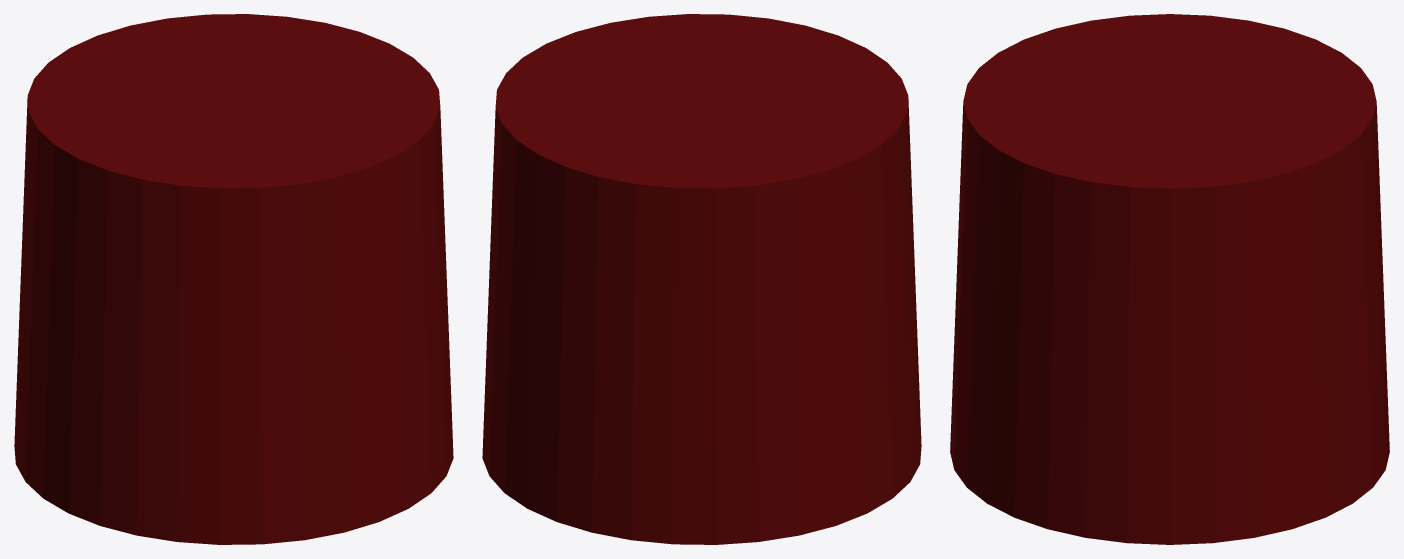
The model's file is red_cup.obj.
3 views of the same model, side by side, from view 1: azimuth 30°, elevation 25°; view 2: azimuth 150°, elevation 25°; view 3: azimuth 270°, elevation 25° (orthographic).
Parts seen in each view (by area): view 1: red_cup_Cylinder; view 2: red_cup_Cylinder; view 3: red_cup_Cylinder.
Part boxes in pixels (box(x1,y1,x2,y2)): red_cup_Cylinder: box(14, 14, 453, 544); red_cup_Cylinder: box(482, 14, 921, 544); red_cup_Cylinder: box(950, 14, 1389, 544).
Size of the model in its own units: 0.0683 by 0.0601 by 0.0683.
